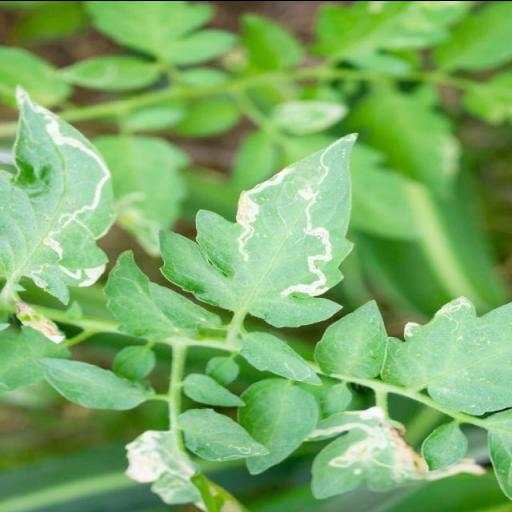Healthy: (238, 379, 316, 473), (38, 356, 158, 410), (314, 298, 392, 378)
Leaf Miner: (157, 131, 358, 325), (0, 84, 122, 306)
